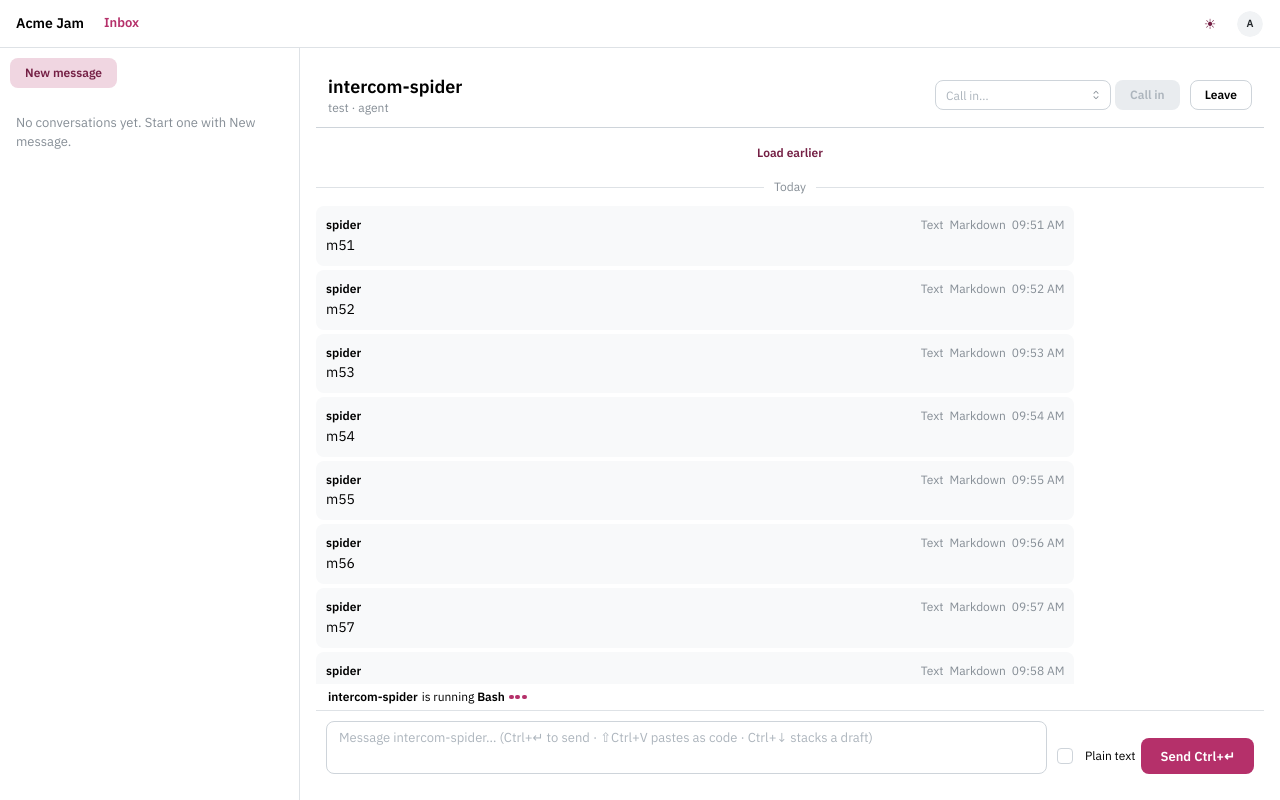
Test: the conversation view › loads earlier pages without duplicates, and keeps them across a refresh
Expected: the text "m50" is not shown
Click the button "Load earlier". click: [790, 153]
box: [742, 138, 838, 168]
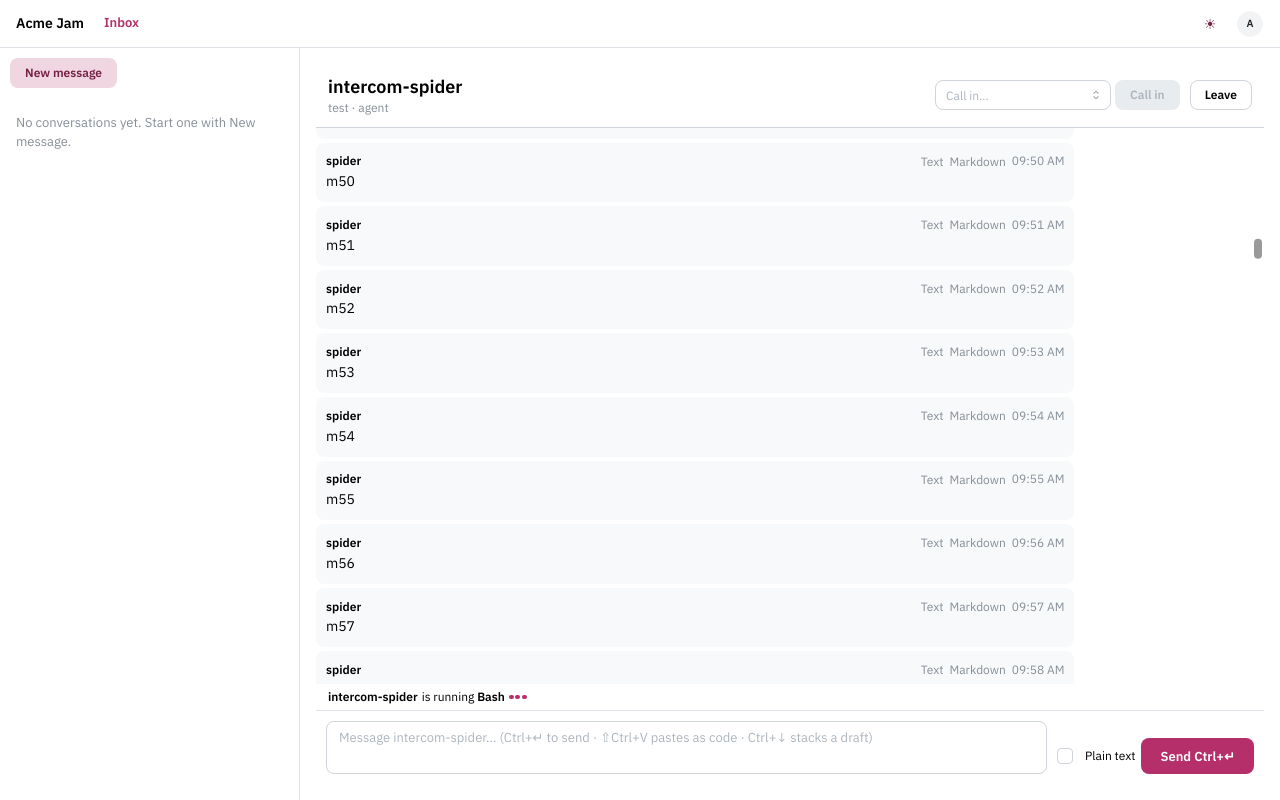
Expected: the button "Load earlier" is gone
Expected: the text "m50" is shown, [326, 172, 355, 190]
